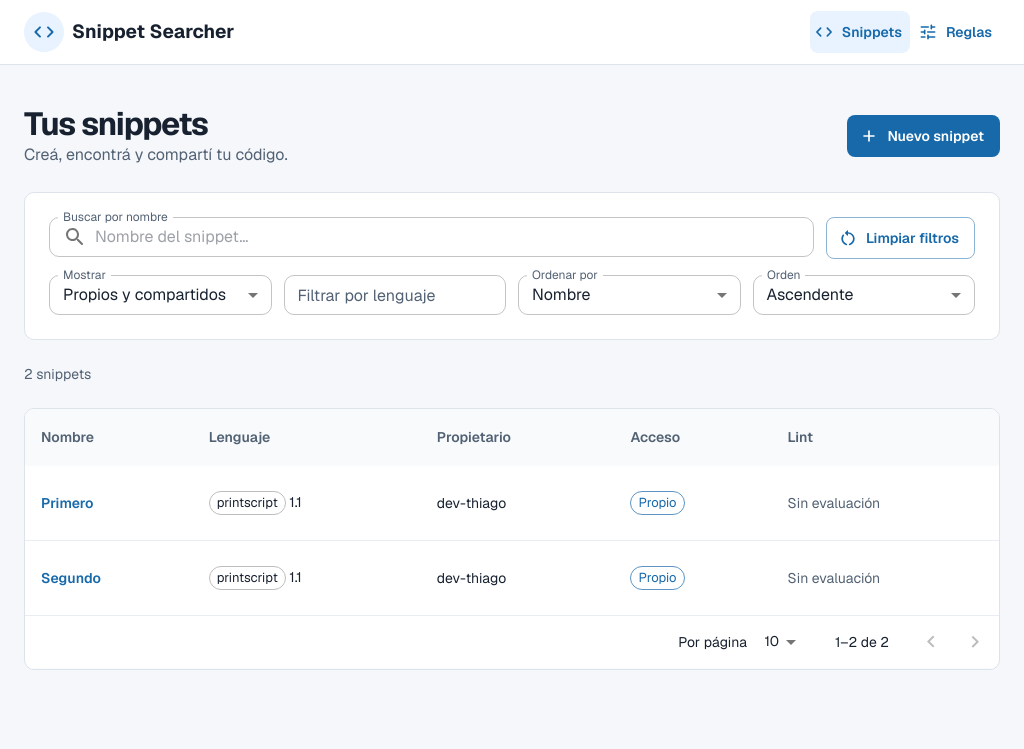
Test: SNI-51 execution panels › cancels on close and never carries private outputs to another snippet
Click the button "Primero" at (68, 503), box [41,482,94,524]
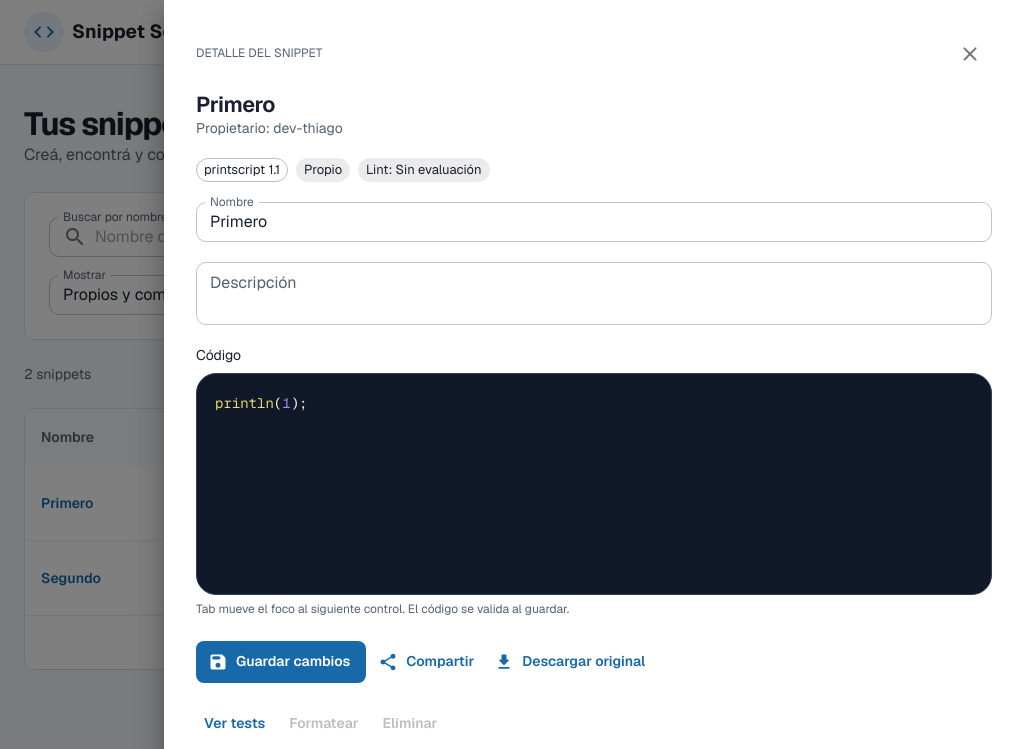
Scroll
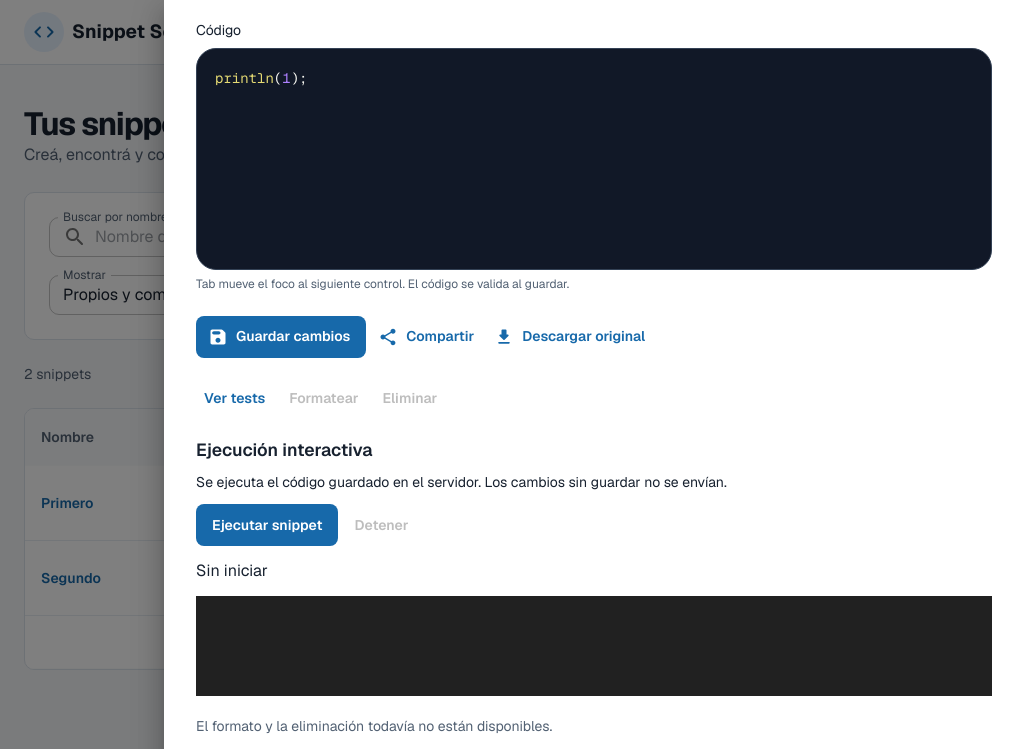
Click the button "Ejecutar snippet" at (268, 525), box [196,504,339,546]
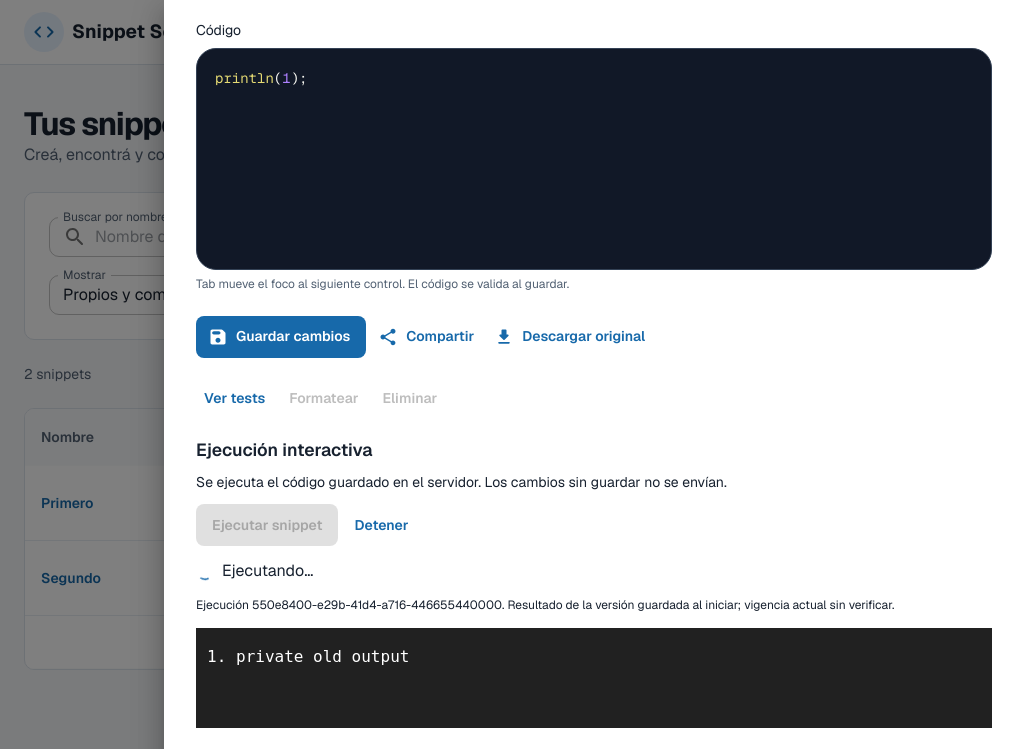
expect the list item "private old output" is shown: met, box [236,647,409,666]
Scroll
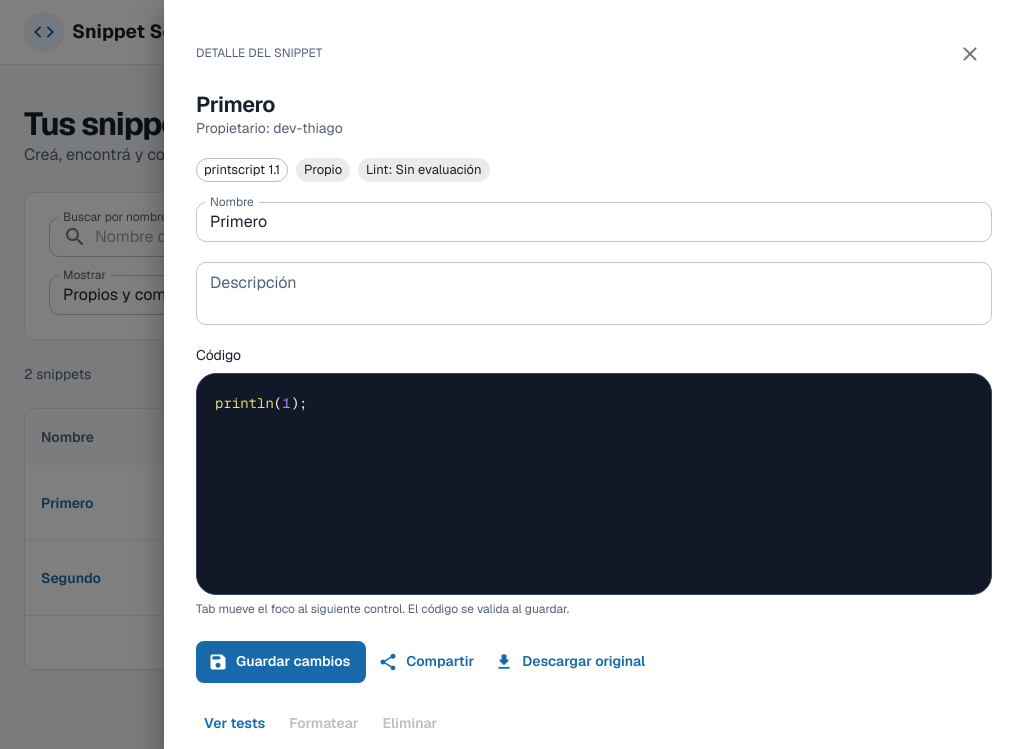
Click the button named "Cerrar detalle" at (970, 54), box [948,32,992,76]
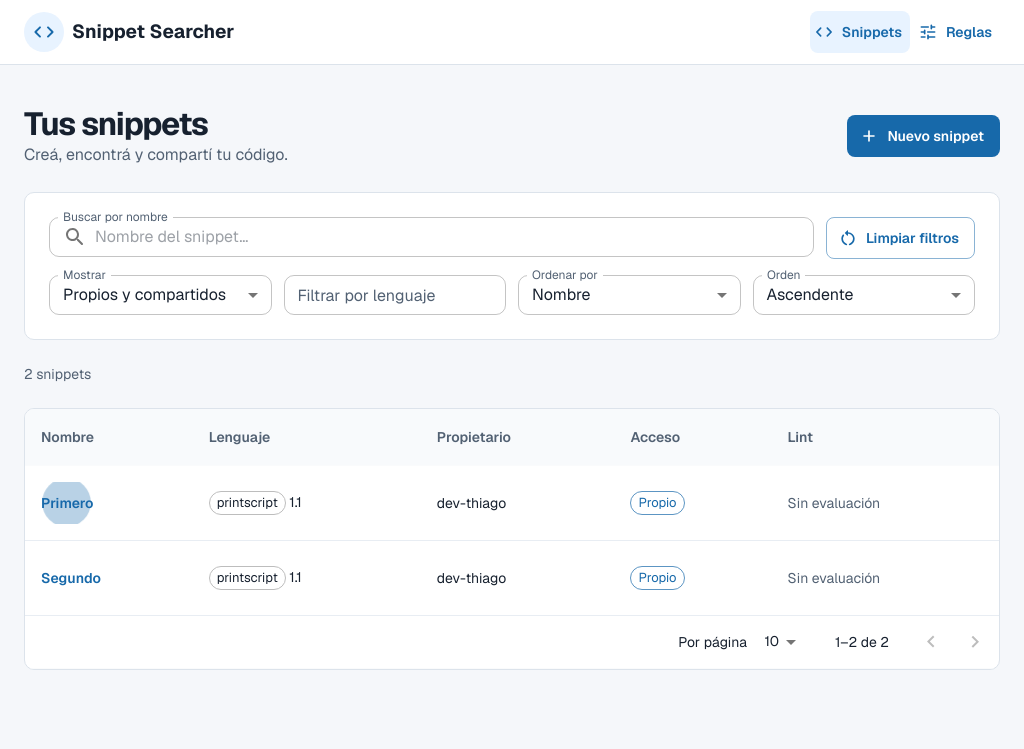
Click the button "Segundo" at (71, 578), box [41,557,101,599]
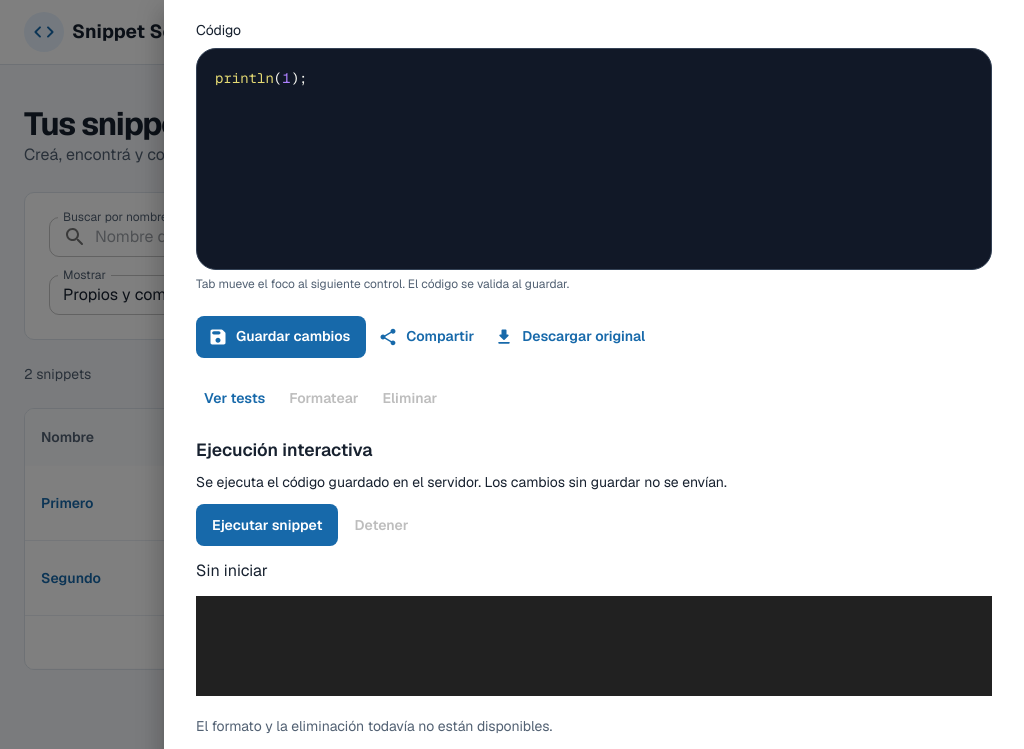
expect the list item "private old output" is not shown: met
expect the text "Sin iniciar" is shown: met, box [196,558,268,584]
